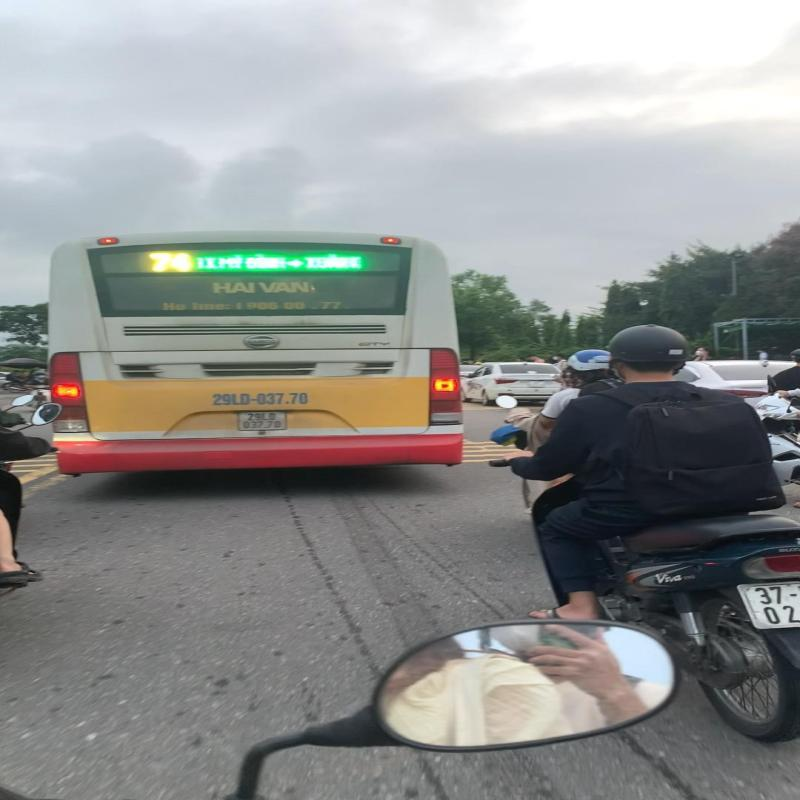helmet: (604, 324, 696, 374), (562, 347, 617, 374)
motorcyclist: (485, 322, 800, 746)
